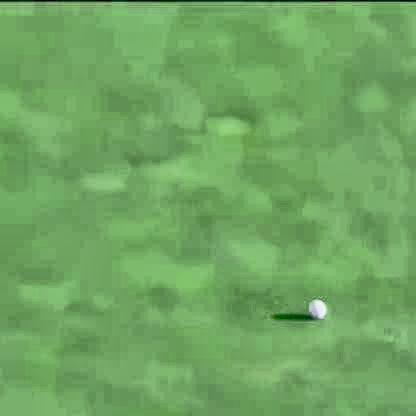golfball: (304, 296, 323, 318)
